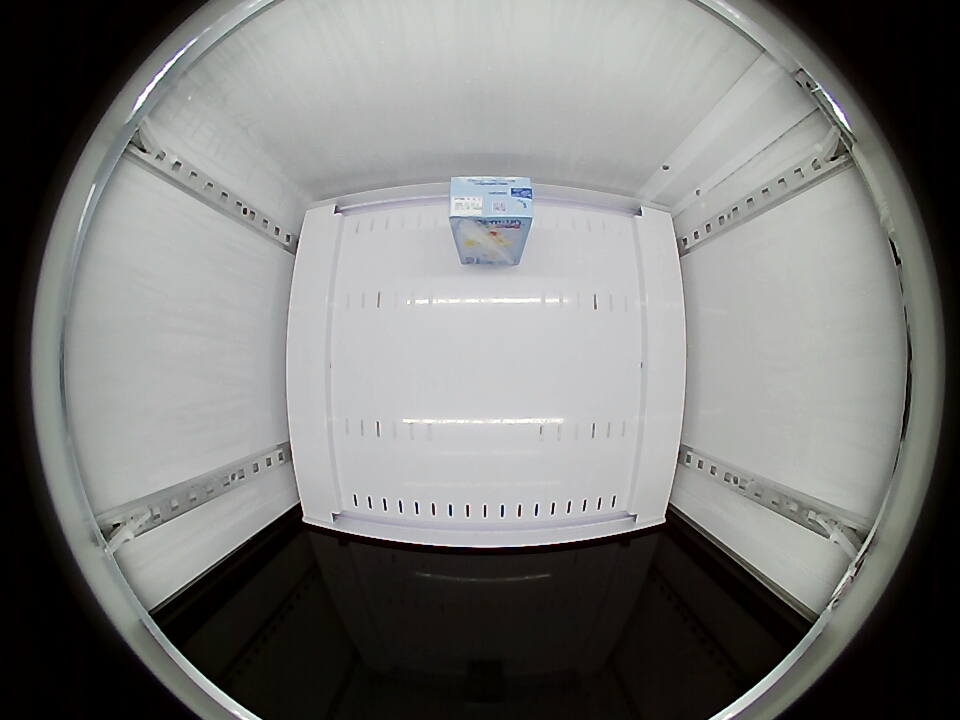weitanaiditang: (449, 176, 535, 235)
